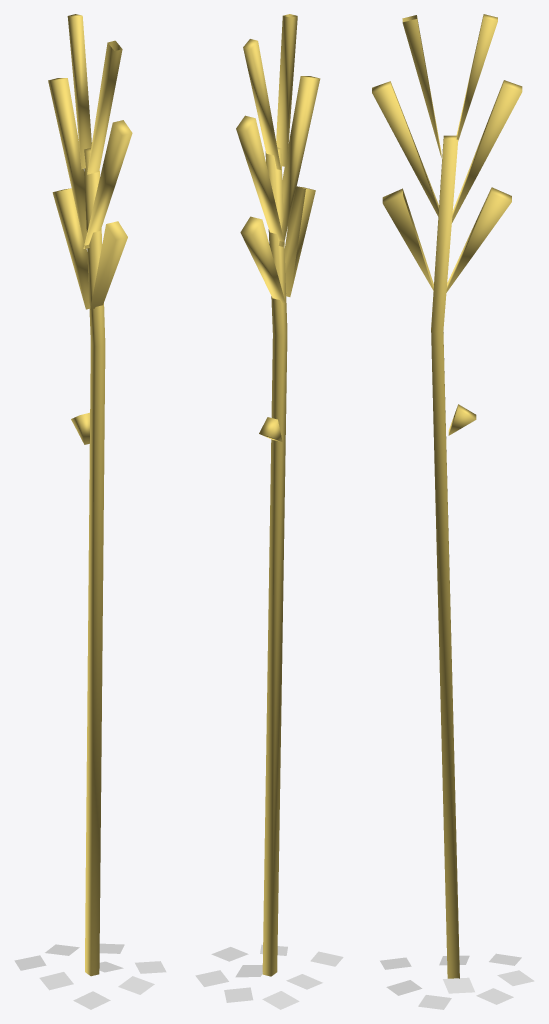
File: millet.glb
The picture shows the model from 3 angles, left to right: view 1: azimuth 30°, elevation 25°; view 2: azimuth 150°, elevation 25°; view 3: azimuth 270°, elevation 25°; orthographic projection.
Parts seen in each view (by area): view 1: millet, millet_copy, millet_copy.002, millet_copy.008; view 2: millet, millet_copy.007, millet_copy.005, millet_copy.009; view 3: millet, millet_copy.004.
Part boxes in pixels (x1,y1,x2,y2): millet: (48, 14, 132, 976); millet_copy: (39, 972, 73, 990); millet_copy.002: (118, 976, 154, 994); millet_copy.008: (73, 991, 110, 1009); millet: (236, 14, 320, 976); millet_copy.007: (262, 991, 299, 1009); millet_copy.005: (224, 987, 253, 1002); millet_copy.009: (195, 970, 228, 986); millet: (372, 14, 522, 978); millet_copy.004: (443, 977, 474, 993).
Bounding box in the file's own units: 0.1243 × 0.9836 × 0.1505.
